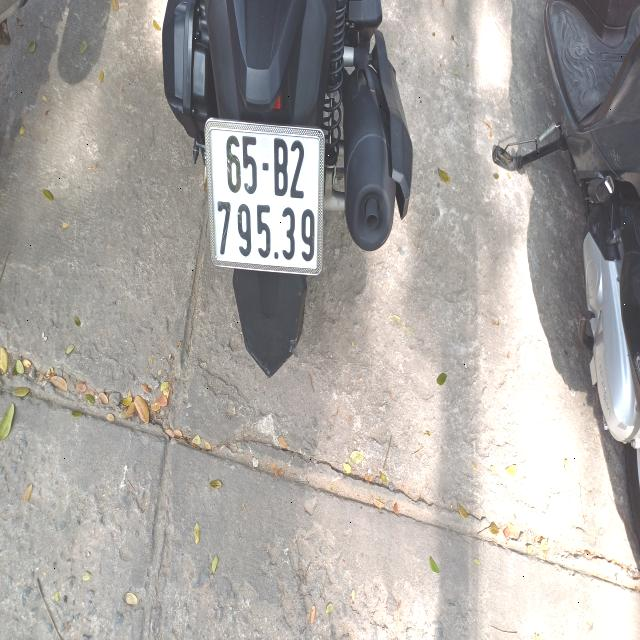2: (287, 134, 304, 199)
3: (281, 206, 296, 258)
5: (242, 132, 258, 196), (255, 203, 271, 258)
6: (226, 132, 242, 194)
7: (216, 197, 232, 255)
9: (301, 205, 315, 263), (237, 202, 252, 256)
B: (271, 134, 289, 196)
